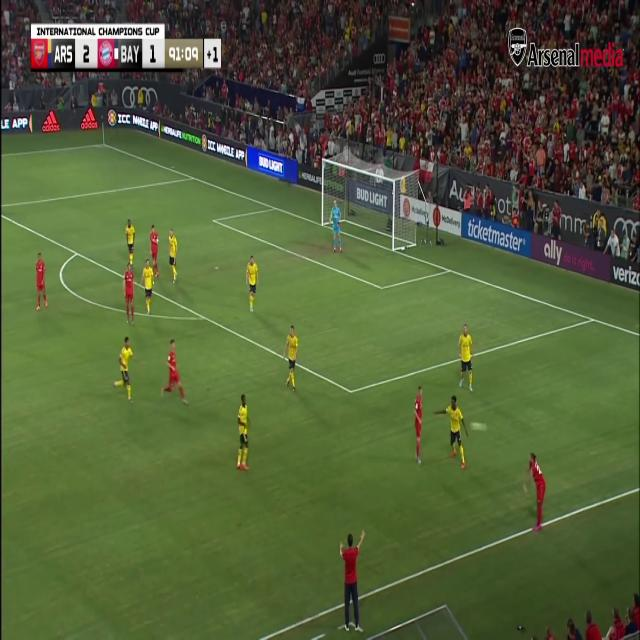Ball: (468, 416, 487, 441)
GoalKeeper: (329, 200, 343, 252)
TEAM 1: (525, 449, 548, 532), (444, 396, 469, 466), (236, 393, 252, 472), (457, 325, 475, 393), (285, 325, 301, 389), (119, 338, 136, 393), (140, 259, 155, 318), (245, 254, 259, 312), (166, 229, 180, 283), (126, 220, 136, 258)
TEAM 2: (164, 338, 188, 404), (414, 381, 428, 466), (122, 260, 138, 321), (36, 252, 50, 310), (150, 225, 161, 265)
